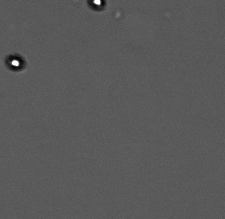Living Cell: (7, 54, 25, 71), (87, 1, 106, 11)
